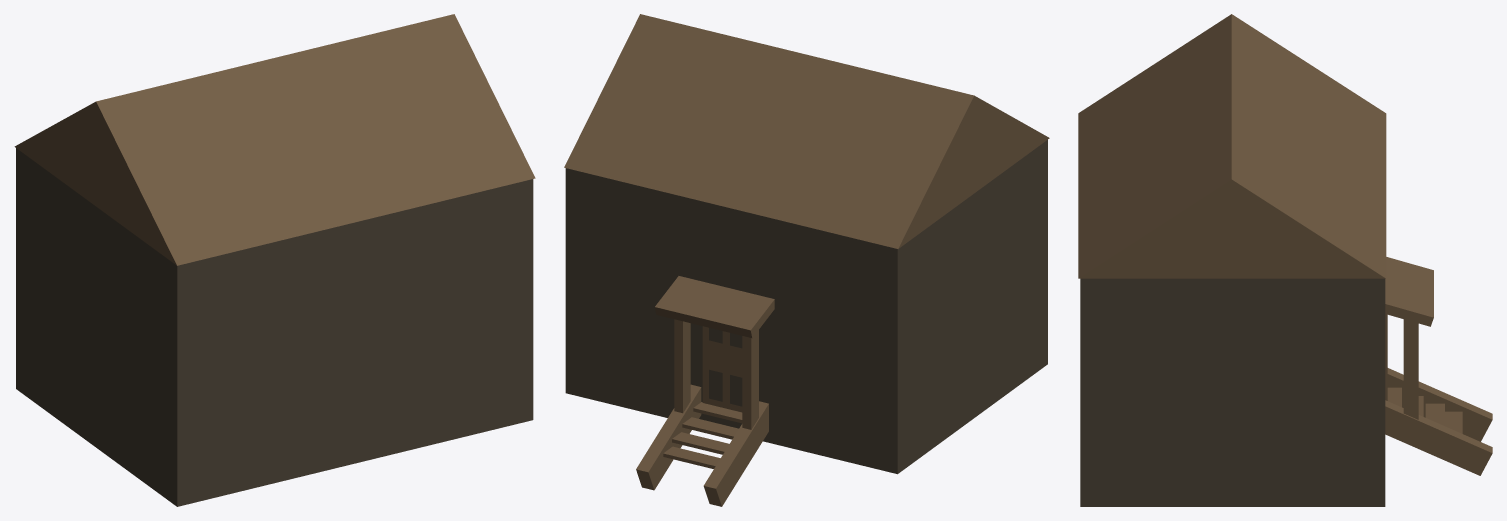
File: Town HouseConnector.fbx
The picture shows the model from 3 angles, left to right: view 1: azimuth 30°, elevation 25°; view 2: azimuth 150°, elevation 25°; view 3: azimuth 270°, elevation 25°; orthographic projection. The views are drawn at different scales.
Parts seen in each view (by area): view 1: Cube.025; view 2: Cube.025; view 3: Cube.025.
Boxes of the visible parts, x1,y1,x2,y2 form: Cube.025: (14, 14, 535, 506); Cube.025: (564, 14, 1049, 506); Cube.025: (1078, 14, 1492, 506).
Bounding box in the file's own units: 2041 × 2062 × 2161.
